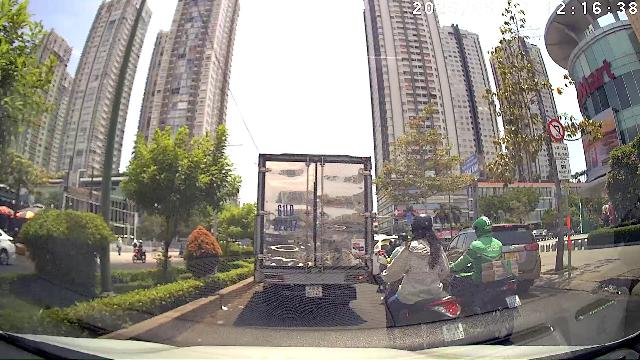103c-cam-oto-re-trai: (548, 118, 564, 142)
